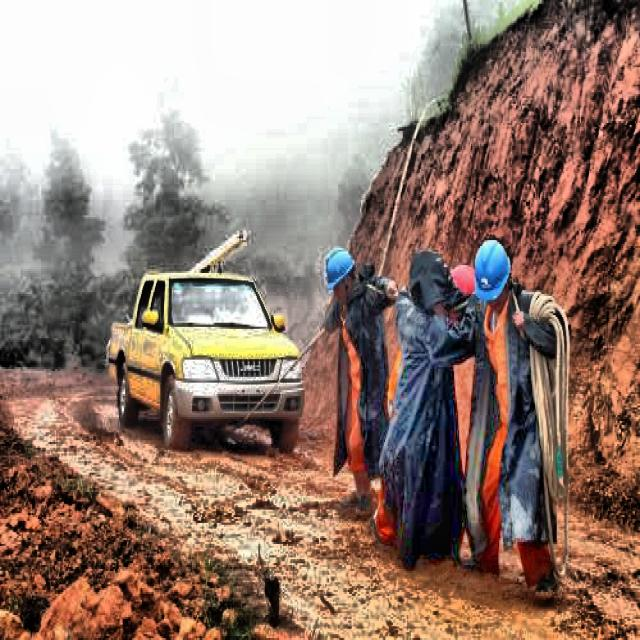helmet: (472, 235, 512, 308), (321, 244, 356, 308)
